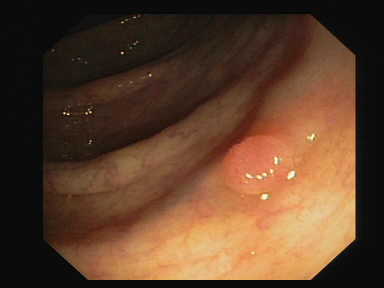polyp: (215, 122, 303, 201)
